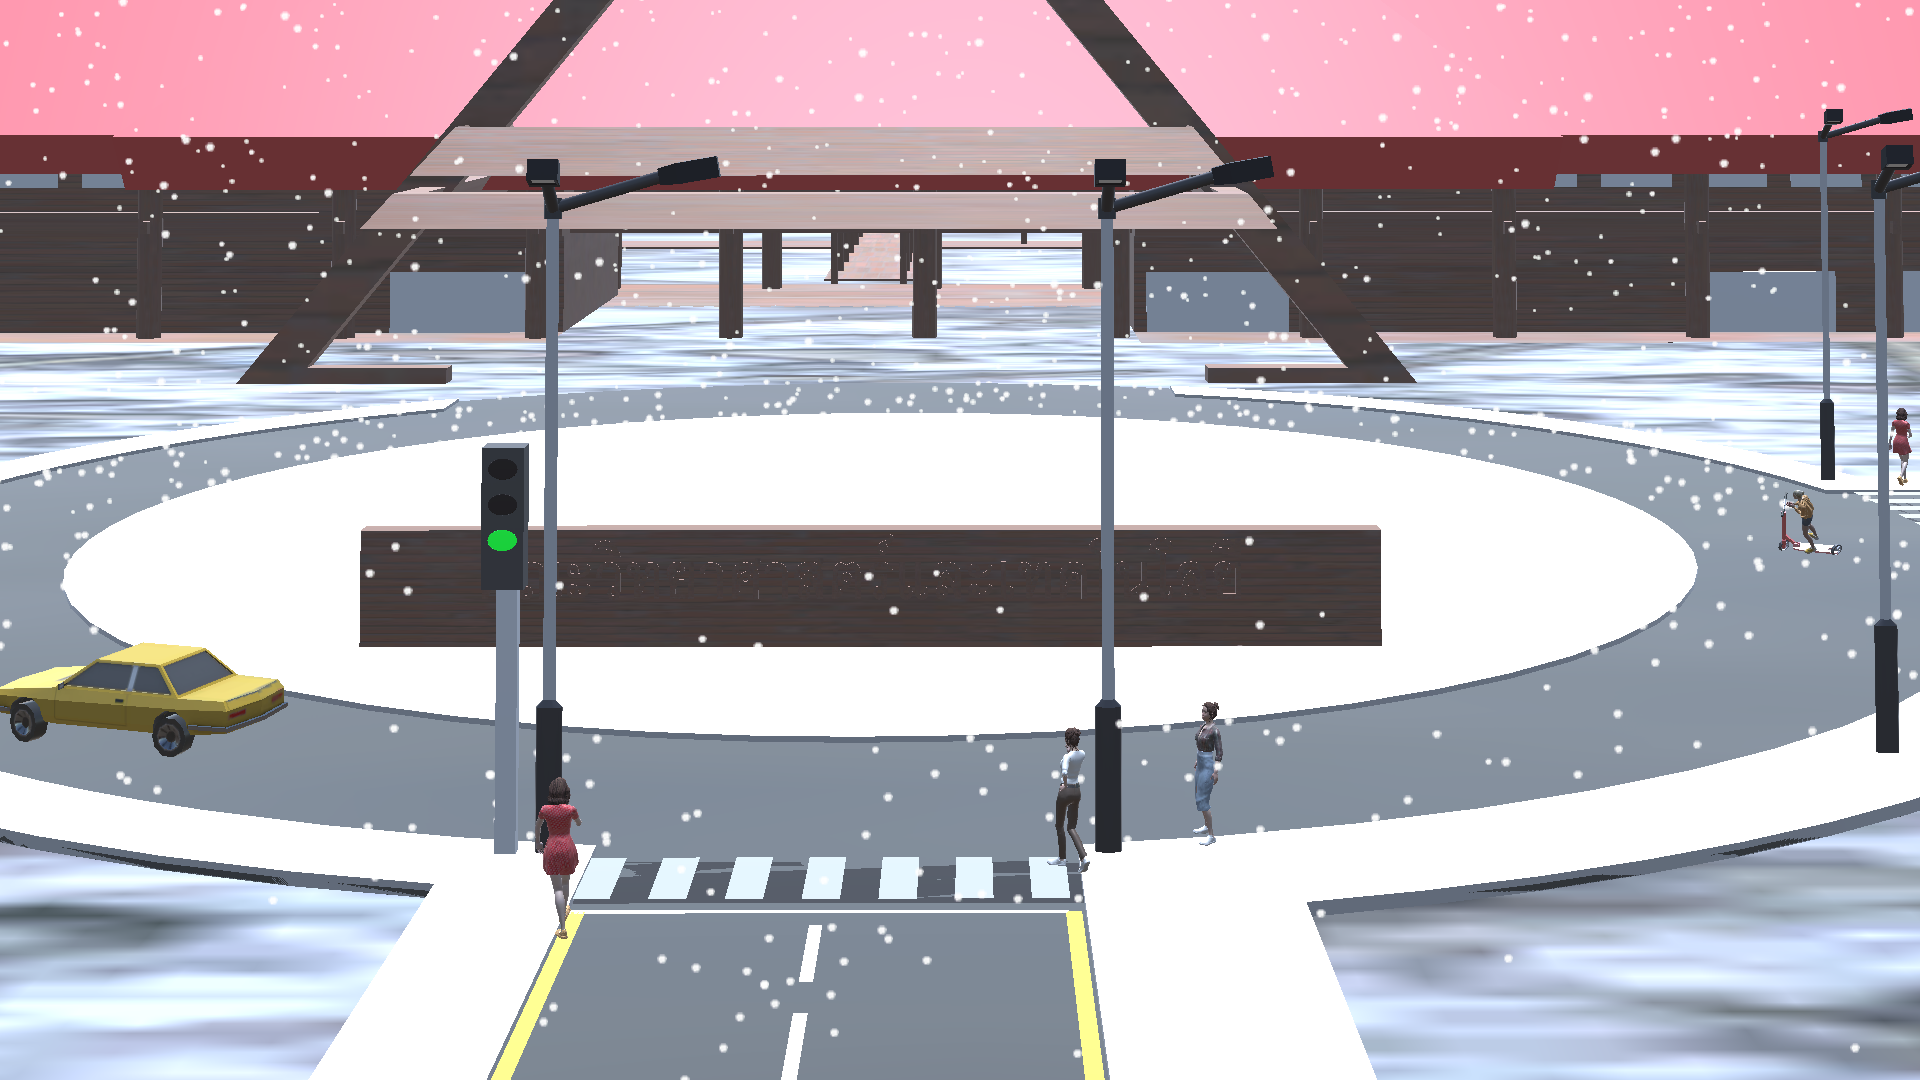pedestrian: (1046, 720, 1101, 878), (1188, 693, 1243, 845), (533, 777, 579, 939), (1892, 415, 1912, 498)
